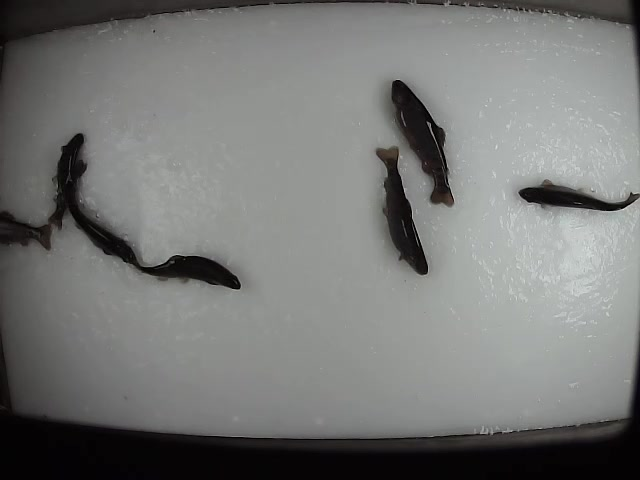fish: (388, 78, 457, 209), (372, 144, 430, 278), (67, 158, 134, 261), (121, 249, 242, 290), (518, 176, 640, 212), (46, 128, 87, 232)
